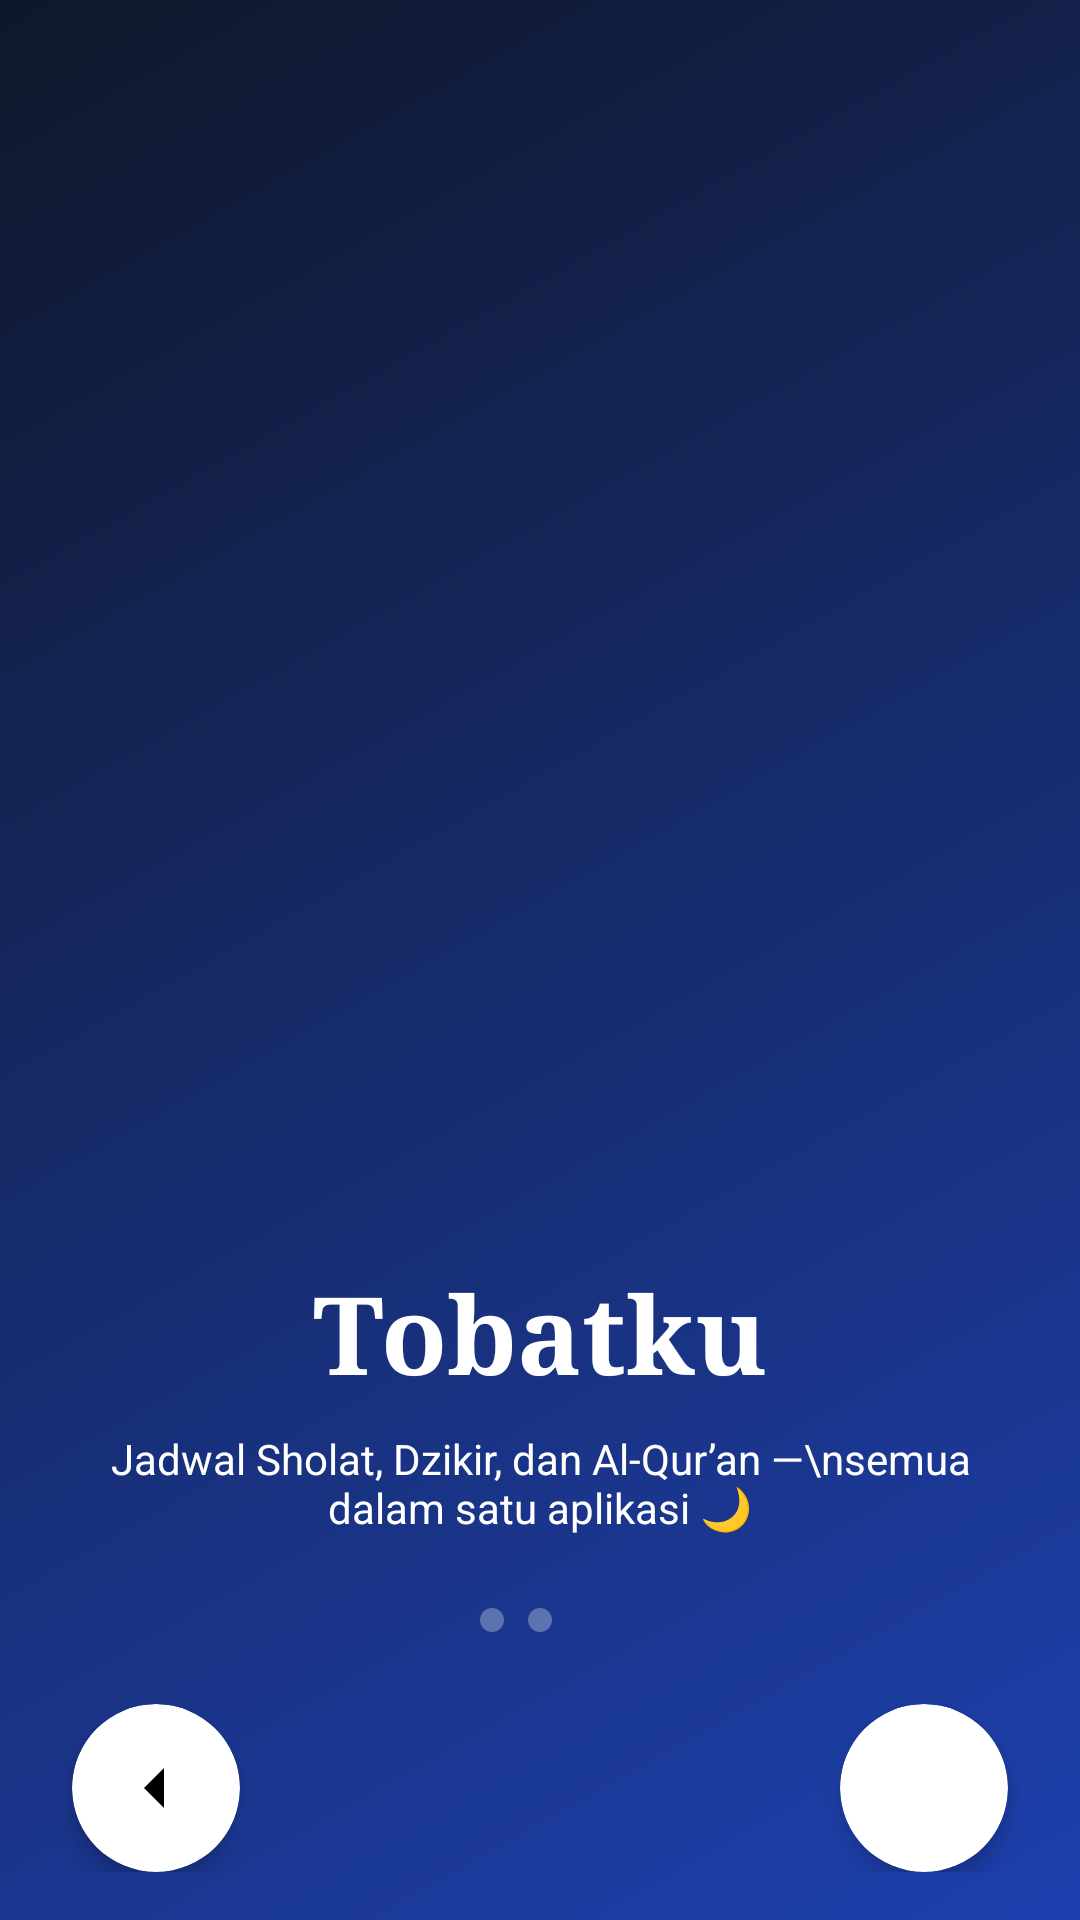

Icons on this 1080w x 1920h Android screen, each with the point to tap as [x,y]:
Kembali ke halaman sebelumnya: [156,1788]
